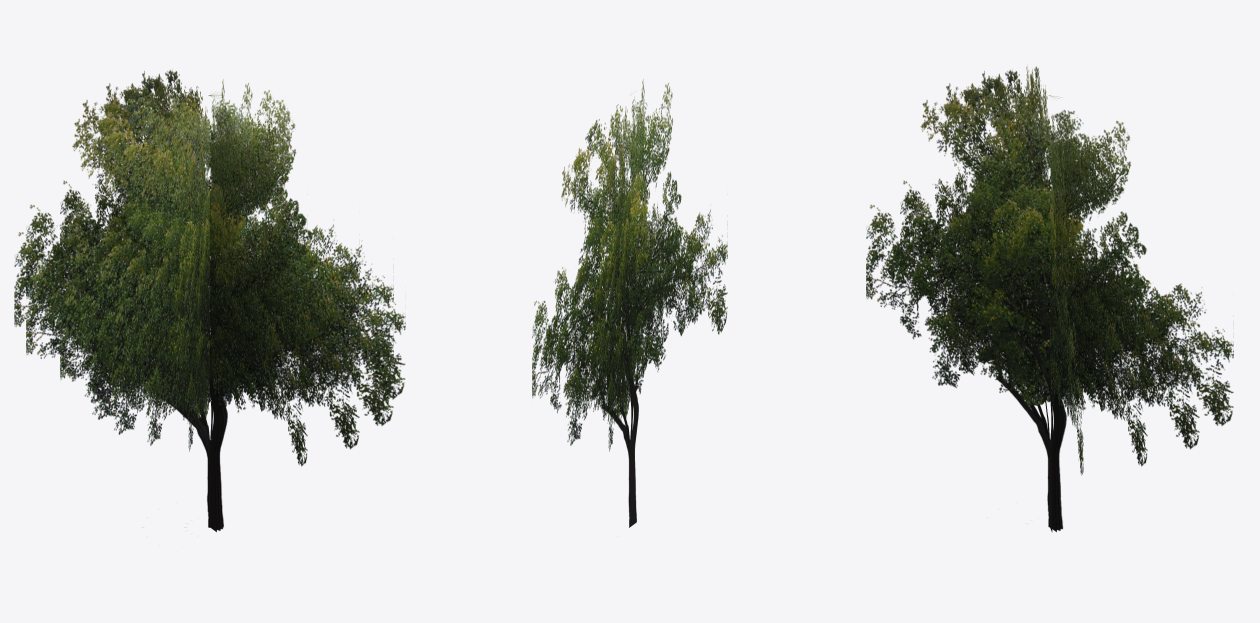
The model's file is shu2.gltf.
3 renders of one model, left to right at view 1: azimuth 30°, elevation 25°; view 2: azimuth 150°, elevation 25°; view 3: azimuth 270°, elevation 25°, orthographic.
Visible parts, largest first — view 1: Box037, Box038, Box036, Box034, Box035, Box039, Box010, Box040; view 2: Box010, Box034; view 3: Box041, Box040, Box039, Box038.
Part boxes in pixels (x1,y1,x2,y2): Box037: (26, 99, 393, 527); Box038: (60, 90, 359, 527); Box036: (14, 95, 405, 527); Box034: (60, 76, 359, 530); Box035: (26, 86, 393, 529); Box039: (112, 83, 307, 527); Box010: (112, 69, 307, 531); Box040: (176, 79, 224, 527); Box010: (532, 83, 727, 527); Box034: (596, 79, 663, 527); Box041: (866, 86, 1233, 529); Box040: (900, 76, 1199, 530); Box039: (952, 69, 1147, 531); Box038: (1026, 66, 1083, 532).
Size of the model in its own units: 9.17 by 11.33 by 9.31.
1 material, 1 textured.
